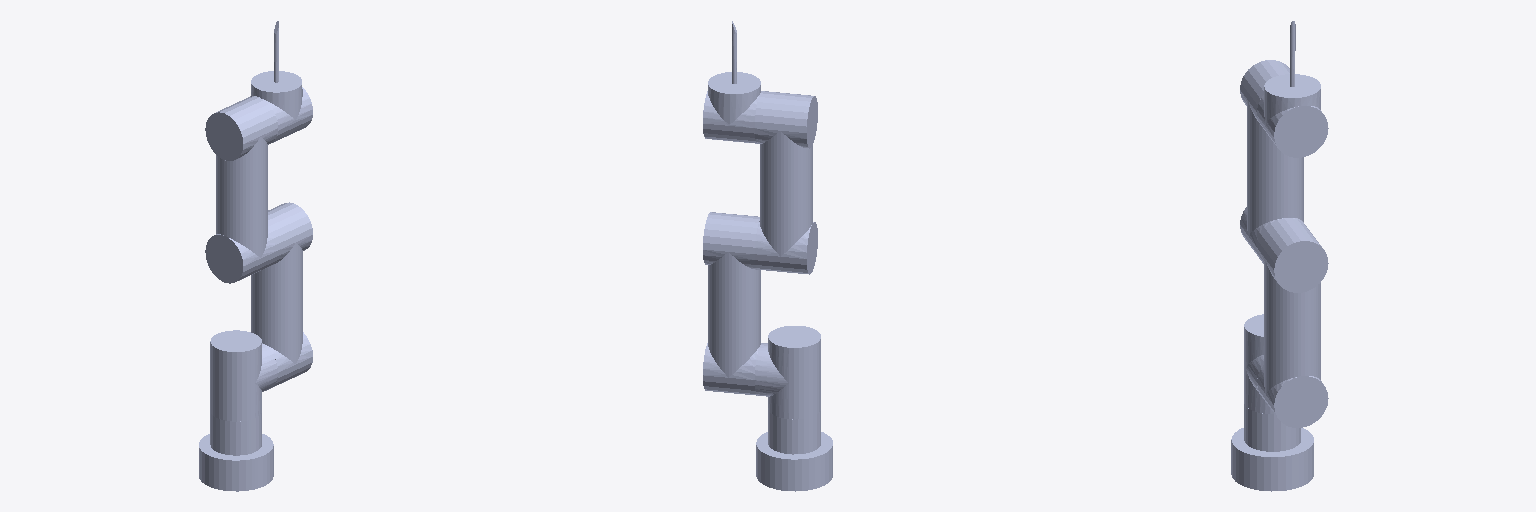
URDF robot description (ciara5):
<?xml version="1.0" encoding="utf-8"?>
<!-- This URDF was automatically created by SolidWorks to URDF Exporter! Originally created by Stephen Brawner (brawner@gmail.com) 
     Commit Version: 1.6.0-4-g7f85cfe  Build Version: 1.6.7995.38578
     For more information, please see http://wiki.ros.org/sw_urdf_exporter -->
<robot
  name="ciara5">
  <link
    name="base_link">
    <inertial>
      <origin
        xyz="-6.70282971988945E-35 1.75434327219908E-18 0.0352793425372839"
        rpy="0 0 0" />
      <mass
        value="0.397081603450482" />
      <inertia
        ixx="0.000390436341830341"
        ixy="5.38770077391158E-37"
        ixz="-1.19574527113186E-36"
        iyy="0.000390436341830341"
        iyz="1.03212048564036E-20"
        izz="0.000329375875681925" />
    </inertial>
    <visual>
      <origin
        xyz="0 0 0"
        rpy="0 0 0" />
      <geometry>
        <mesh
          filename="package://ciara5/meshes/base_link.STL" />
      </geometry>
      <material
        name="">
        <color
          rgba="0.792156862745098 0.819607843137255 0.933333333333333 1" />
      </material>
    </visual>
    <collision>
      <origin
        xyz="0 0 0"
        rpy="0 0 0" />
      <geometry>
        <mesh
          filename="package://ciara5/meshes/base_link.STL" />
      </geometry>
    </collision>
  </link>
  <link
    name="link_0">
    <inertial>
      <origin
        xyz="0.00425850389206899 0.00133995144441386 0.0910531330654277"
        rpy="0 0 0" />
      <mass
        value="0.321308800551652" />
      <inertia
        ixx="0.000288220170687884"
        ixy="-7.8870075385222E-06"
        ixz="7.27371175221573E-08"
        iyy="0.00031080102044461"
        iyz="2.29116239120416E-08"
        izz="0.00018993783104218" />
    </inertial>
    <visual>
      <origin
        xyz="0 0 0"
        rpy="0 0 0" />
      <geometry>
        <mesh
          filename="package://ciara5/meshes/link_0.STL" />
      </geometry>
      <material
        name="">
        <color
          rgba="0.792156862745098 0.819607843137255 0.933333333333333 1" />
      </material>
    </visual>
    <collision>
      <origin
        xyz="0 0 0"
        rpy="0 0 0" />
      <geometry>
        <mesh
          filename="package://ciara5/meshes/link_0.STL" />
      </geometry>
    </collision>
  </link>
  <joint
    name="joint_0"
    type="revolute">
    <origin
      xyz="0 0 0.041"
      rpy="0 0 0" />
    <parent
      link="base_link" />
    <child
      link="link_0" />
    <axis
      xyz="0 0 1" />
    <limit
      lower="-3.142"
      upper="3.142"
      effort="1.9613"
      velocity="3" />
  </joint>
  <link
    name="link_1">
    <inertial>
      <origin
        xyz="-1.01637347407526E-18 0.0810000587552482 0.0719627676881317"
        rpy="0 0 0" />
      <mass
        value="0.705361988056164" />
      <inertia
        ixx="0.00308788217416799"
        ixy="5.05762465393326E-10"
        ixz="1.52549337040491E-10"
        iyy="0.000374499963219962"
        iyz="1.80217406086646E-10"
        izz="0.00306719737007776" />
    </inertial>
    <visual>
      <origin
        xyz="0 0 0"
        rpy="0 0 0" />
      <geometry>
        <mesh
          filename="package://ciara5/meshes/link_1.STL" />
      </geometry>
      <material
        name="">
        <color
          rgba="0.792156862745098 0.819607843137255 0.933333333333333 1" />
      </material>
    </visual>
    <collision>
      <origin
        xyz="0 0 0"
        rpy="0 0 0" />
      <geometry>
        <mesh
          filename="package://ciara5/meshes/link_1.STL" />
      </geometry>
    </collision>
  </link>
  <joint
    name="joint_1"
    type="revolute">
    <origin
      xyz="0 0 0.091"
      rpy="1.5708 0 1.8757" />
    <parent
      link="link_0" />
    <child
      link="link_1" />
    <axis
      xyz="0 0 1" />
    <limit
      lower="-2.0944"
      upper="2.0944"
      effort="3.9227"
      velocity="3" />
  </joint>
  <link
    name="link_2">
    <inertial>
      <origin
        xyz="9.10729824887824E-18 0.0810000588863843 0.0620318736990104"
        rpy="0 0 0" />
      <mass
        value="0.703791191729369" />
      <inertia
        ixx="0.00307604332382897"
        ixy="3.72159665402518E-10"
        ixz="4.17407265977839E-10"
        iyy="0.000372967730172223"
        iyz="-2.08097620708596E-19"
        izz="0.00305687173777506" />
    </inertial>
    <visual>
      <origin
        xyz="0 0 0"
        rpy="0 0 0" />
      <geometry>
        <mesh
          filename="package://ciara5/meshes/link_2.STL" />
      </geometry>
      <material
        name="">
        <color
          rgba="0.792156862745098 0.819607843137255 0.933333333333333 1" />
      </material>
    </visual>
    <collision>
      <origin
        xyz="0 0 0"
        rpy="0 0 0" />
      <geometry>
        <mesh
          filename="package://ciara5/meshes/link_2.STL" />
      </geometry>
    </collision>
  </link>
  <joint
    name="joint_2"
    type="revolute">
    <origin
      xyz="0 0.162 0.072"
      rpy="-3.1416 0 -3.1416" />
    <parent
      link="link_1" />
    <child
      link="link_2" />
    <axis
      xyz="0 0 1" />
    <limit
      lower="-2.268"
      upper="2.268"
      effort="3.9227"
      velocity="3" />
  </joint>
  <link
    name="end">
    <inertial>
      <origin
        xyz="1.5163138553792E-08 0.00686788029864893 -0.0310555094953993"
        rpy="0 0 0" />
      <mass
        value="0.233953288068619" />
      <inertia
        ixx="0.000165746967648986"
        ixy="-1.5321170176442E-10"
        ixz="-1.41288194590639E-10"
        iyy="0.000129233637195583"
        iyz="-1.08280611221715E-07"
        izz="0.000155408452097507" />
    </inertial>
    <visual>
      <origin
        xyz="0 0 0"
        rpy="0 0 0" />
      <geometry>
        <mesh
          filename="package://ciara5/meshes/end.STL" />
      </geometry>
      <material
        name="">
        <color
          rgba="0.792156862745098 0.819607843137255 0.933333333333333 1" />
      </material>
    </visual>
    <collision>
      <origin
        xyz="0 0 0"
        rpy="0 0 0" />
      <geometry>
        <mesh
          filename="package://ciara5/meshes/end.STL" />
      </geometry>
    </collision>
  </link>
  <joint
    name="joint_3"
    type="revolute">
    <origin
      xyz="0 0.162 -0.031"
      rpy="-3.1416 0 -3.1416" />
    <parent
      link="link_2" />
    <child
      link="end" />
    <axis
      xyz="0 0 1" />
    <limit
      lower="-1.919"
      upper="1.919"
      effort="0.98067"
      velocity="3" />
  </joint>
</robot>

--- Facts derived from the render (not from the file) ---
The picture shows the robot from 3 angles, left to right: view 1: azimuth 30°, elevation 25°; view 2: azimuth 150°, elevation 25°; view 3: azimuth 270°, elevation 25°; orthographic projection.
Model ciara5 with 5 links and 4 joints (4 revolute), rooted at base_link, posed every joint at zero.
Links seen in each view (by area): view 1: link_2, link_1, link_0, base_link, end; view 2: link_2, link_1, link_0, base_link, end; view 3: link_1, link_2, base_link, end, link_0.
Link boxes in pixels (<box>): link_2: <box>205,96,277,283</box>; link_1: <box>251,202,312,387</box>; link_0: <box>210,330,277,421</box>; base_link: <box>199,412,273,491</box>; end: <box>250,21,312,142</box>; link_2: <box>755,91,817,274</box>; link_1: <box>703,212,761,395</box>; link_0: <box>755,326,820,419</box>; base_link: <box>756,410,832,491</box>; end: <box>703,21,761,143</box>; link_1: <box>1257,218,1328,427</box>; link_2: <box>1240,60,1303,258</box>; base_link: <box>1231,404,1313,491</box>; end: <box>1257,21,1328,157</box>; link_0: <box>1244,314,1273,413</box>.
Size in the robot's own frame: 0.1525 by 0.1055 by 0.577 metres.
Meshes: 5 distinct files referenced, 5 mesh visuals loaded (5 binary STL).
